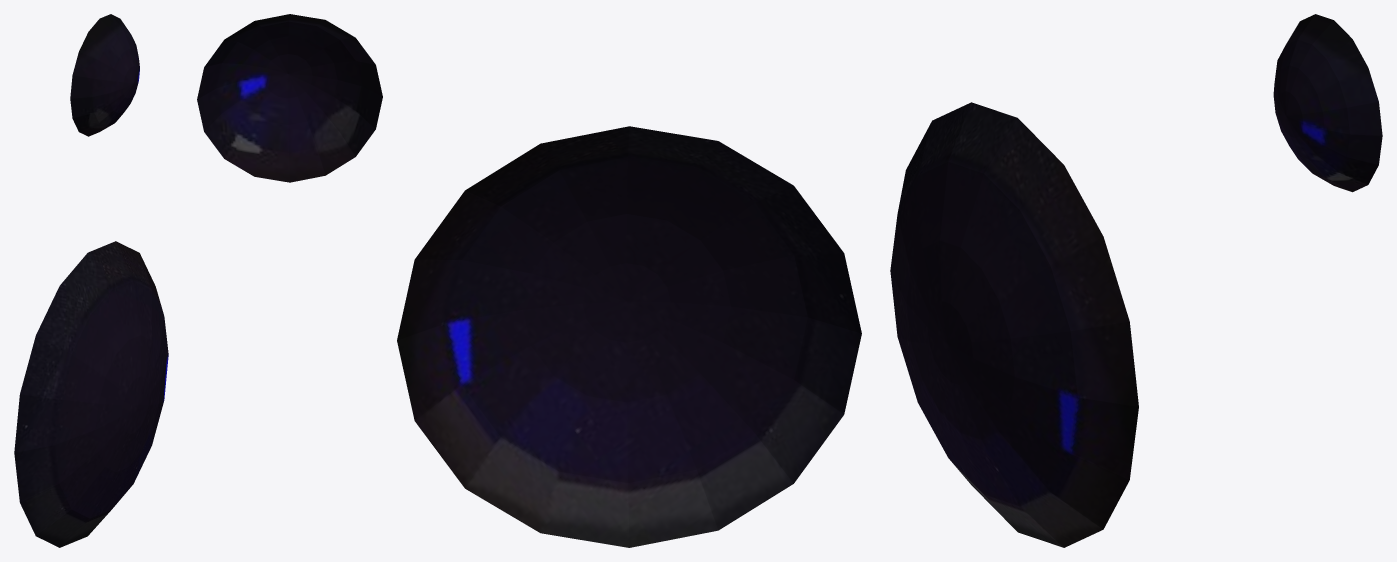
File: instagram_lens.glb
3 views of the same model, side by side, from view 1: azimuth 30°, elevation 25°; view 2: azimuth 150°, elevation 25°; view 3: azimuth 270°, elevation 25° (orthographic). The views are drawn at different scales.
Parts seen in each view (by area): view 1: instagram_lens; view 2: instagram_lens; view 3: instagram_lens.
Boxes of the visible parts, <box> form: instagram_lens: <box>14,14,168,547</box>; instagram_lens: <box>197,14,861,547</box>; instagram_lens: <box>890,14,1382,547</box>.
Bounding box in the file's own units: 0.6828 × 0.9499 × 0.7089.
Materials: 1 (1 with a texture image).
